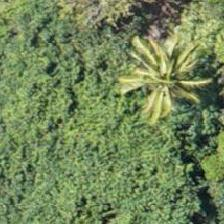coconut_tree: (111, 35, 201, 125)
